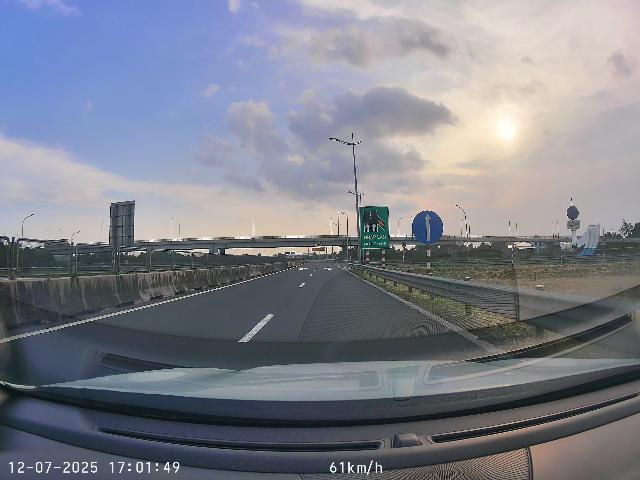301a-cac-xe-chi-duoc-di-thang: (412, 210, 444, 244)
